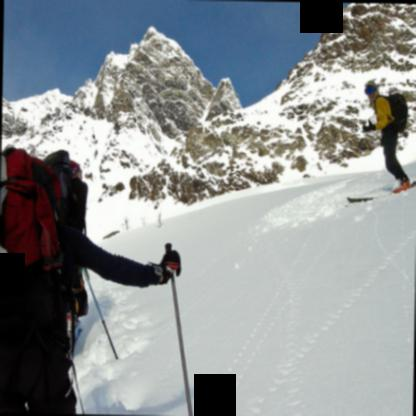backpack: (0, 146, 60, 290), (373, 92, 408, 134)
